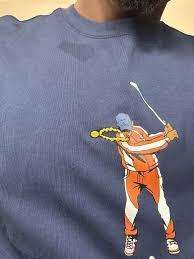mustard: (60, 39, 94, 65)
